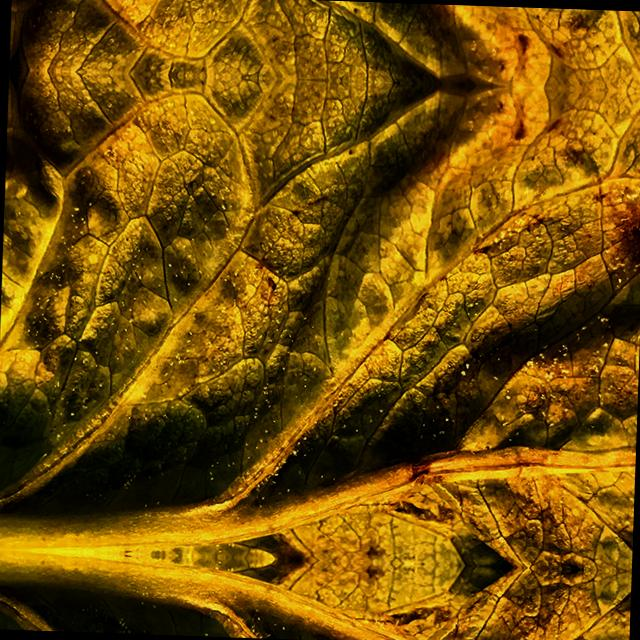Downy_mildew: (25, 98, 640, 571), (22, 550, 628, 640), (43, 0, 640, 63)
